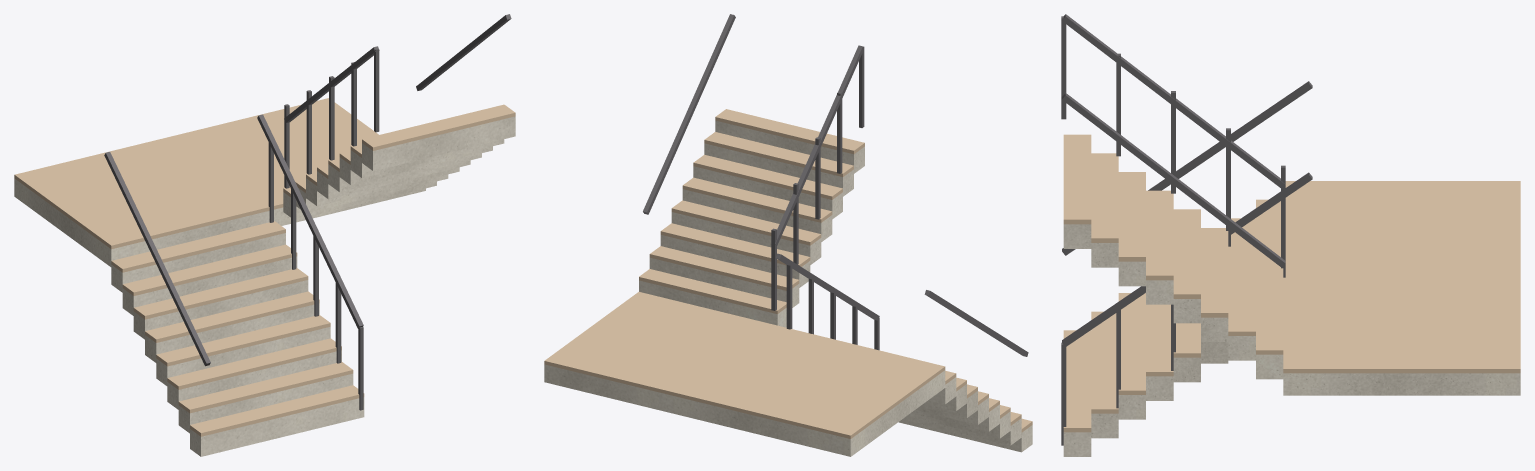
File: stairs_u_3m_192_168.glb
The picture shows the model from 3 angles, left to right: view 1: azimuth 30°, elevation 25°; view 2: azimuth 150°, elevation 25°; view 3: azimuth 270°, elevation 25°; orthographic projection. The views are drawn at different scales.
Parts seen in each view (by area): view 1: stairs_u_3m_192_168_floor, stairs_u_3m_192_168_plaster, stairs_u_3m_192_168_iron; view 2: stairs_u_3m_192_168_floor, stairs_u_3m_192_168_plaster, stairs_u_3m_192_168_iron; view 3: stairs_u_3m_192_168_floor, stairs_u_3m_192_168_plaster, stairs_u_3m_192_168_iron.
Boxes of the visible parts, x1,y1,x2,y2 form: stairs_u_3m_192_168_floor: (14, 98, 515, 436); stairs_u_3m_192_168_plaster: (14, 116, 515, 456); stairs_u_3m_192_168_iron: (104, 14, 511, 410); stairs_u_3m_192_168_floor: (544, 109, 1032, 438); stairs_u_3m_192_168_plaster: (544, 120, 1032, 456); stairs_u_3m_192_168_iron: (643, 14, 1028, 356); stairs_u_3m_192_168_floor: (1063, 134, 1520, 432); stairs_u_3m_192_168_plaster: (1063, 224, 1520, 456); stairs_u_3m_192_168_iron: (1061, 14, 1312, 445).
Bounding box in the file's own units: 3.6 × 4.01 × 3.72.
3 materials, 1 textured.
